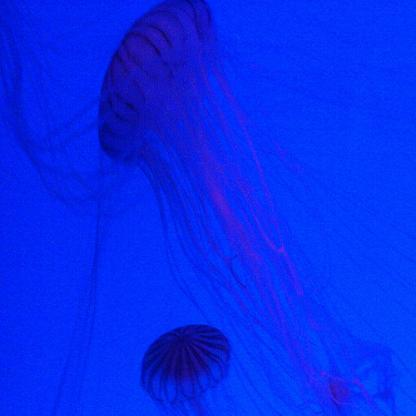Moon: (100, 5, 297, 289), (139, 325, 234, 409)
